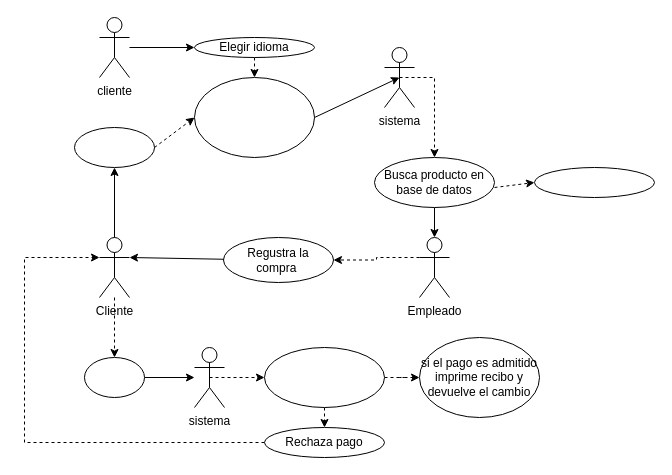
Image size: 672x475. Some labels were removed from this diagram. The centre of each missing label's shape, as x and y in pixels:
"Escanea Codigo de barras" belongs at point 254,117.
"Realizar pago" belongs at point 114,377.
"Si es en efectivo solicitar pago solo en villetes" belongs at point 324,377.
"Si no existe bloquea" belongs at point 594,182.
"sige comprando" belongs at point 114,147.
